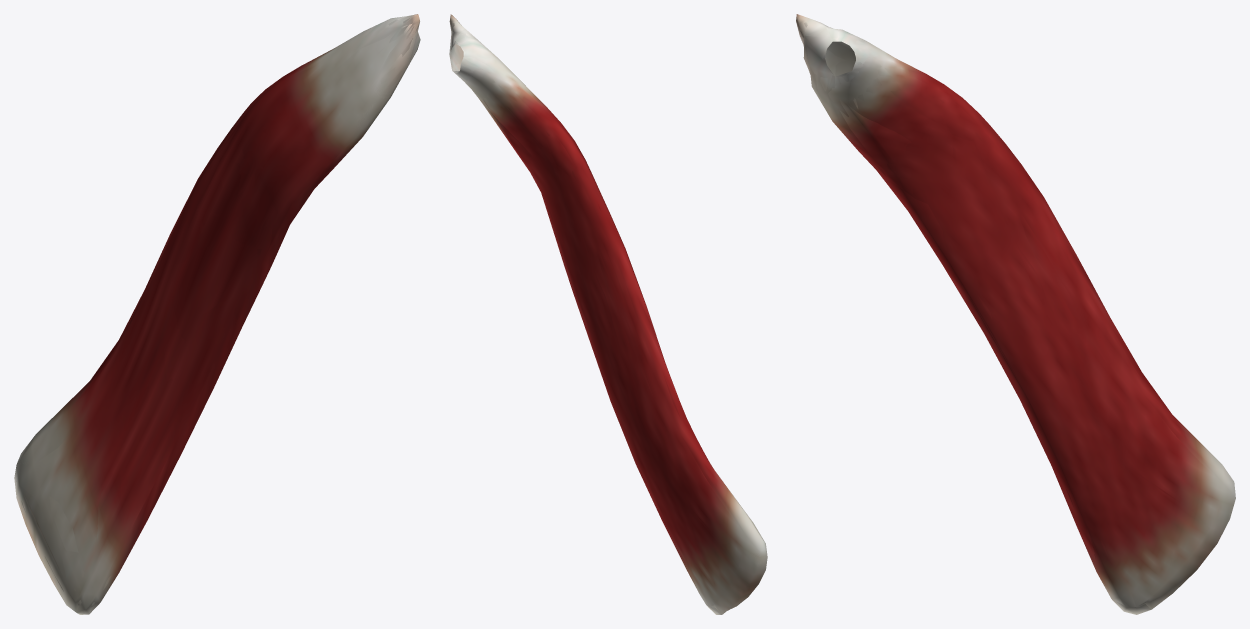
Rendered from R Omotransversarius.fbx.
3 views of the same model, side by side, from view 1: azimuth 30°, elevation 25°; view 2: azimuth 210°, elevation 25°; view 3: azimuth 270°, elevation 25° (orthographic). The views are drawn at different scales.
Visible parts, largest first — view 1: R Omotransversarius, R Omotransversarius low, R Omotransversarius high; view 2: R Omotransversarius, R Omotransversarius low, R Omotransversarius high; view 3: R Omotransversarius, R Omotransversarius low, R Omotransversarius high.
Boxes of the visible parts, left/top/right/bottom form: R Omotransversarius: left=14, top=14, right=419, bottom=614; R Omotransversarius low: left=16, top=15, right=420, bottom=613; R Omotransversarius high: left=16, top=18, right=417, bottom=607; R Omotransversarius: left=449, top=14, right=767, bottom=614; R Omotransversarius low: left=449, top=14, right=765, bottom=614; R Omotransversarius high: left=450, top=21, right=758, bottom=610; R Omotransversarius: left=796, top=14, right=1235, bottom=614; R Omotransversarius low: left=796, top=14, right=1235, bottom=614; R Omotransversarius high: left=799, top=22, right=1201, bottom=561.
Bounding box in the file's own units: 2.49 × 7.95 × 4.64.
